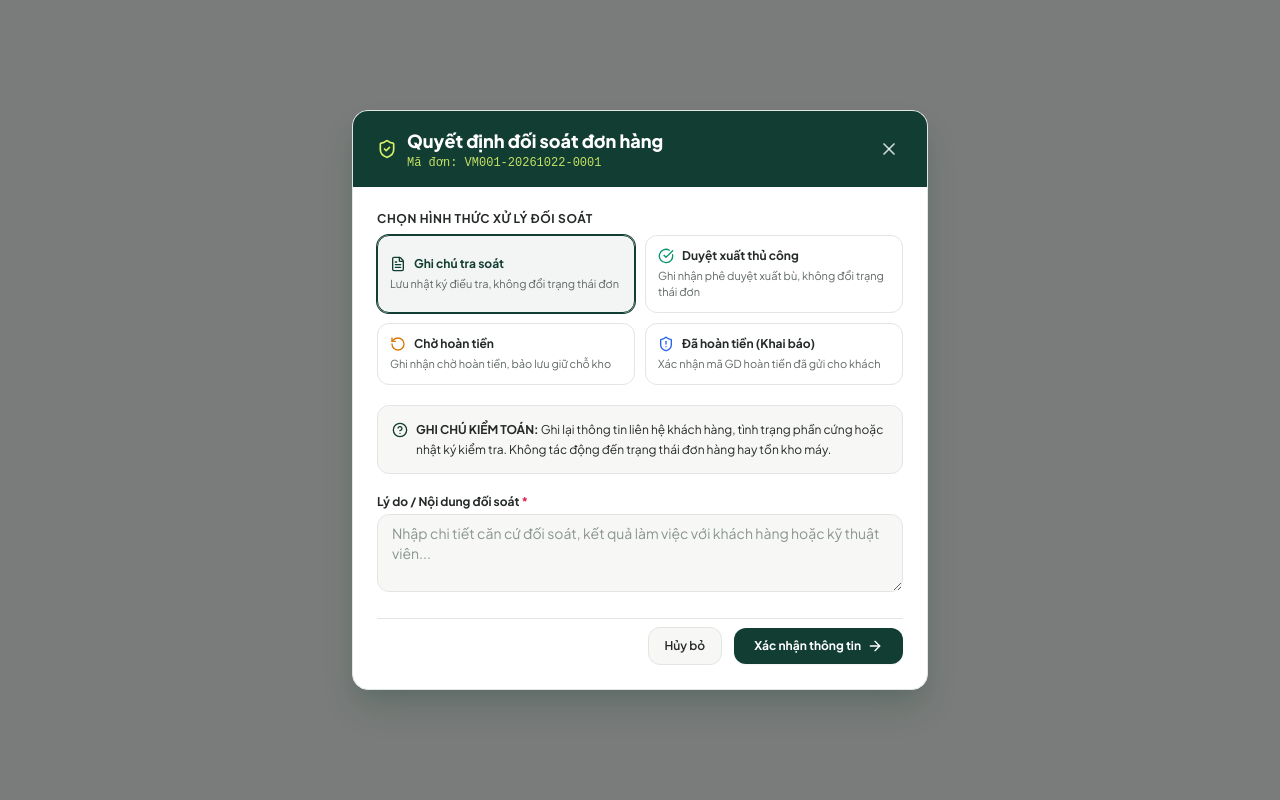
ReconciliationDecisionModal Component › validates that reason is required for any decision
Click the button "Xác nhận thông tin" at {"x": 819, "y": 646}, box [734,628,903,664]
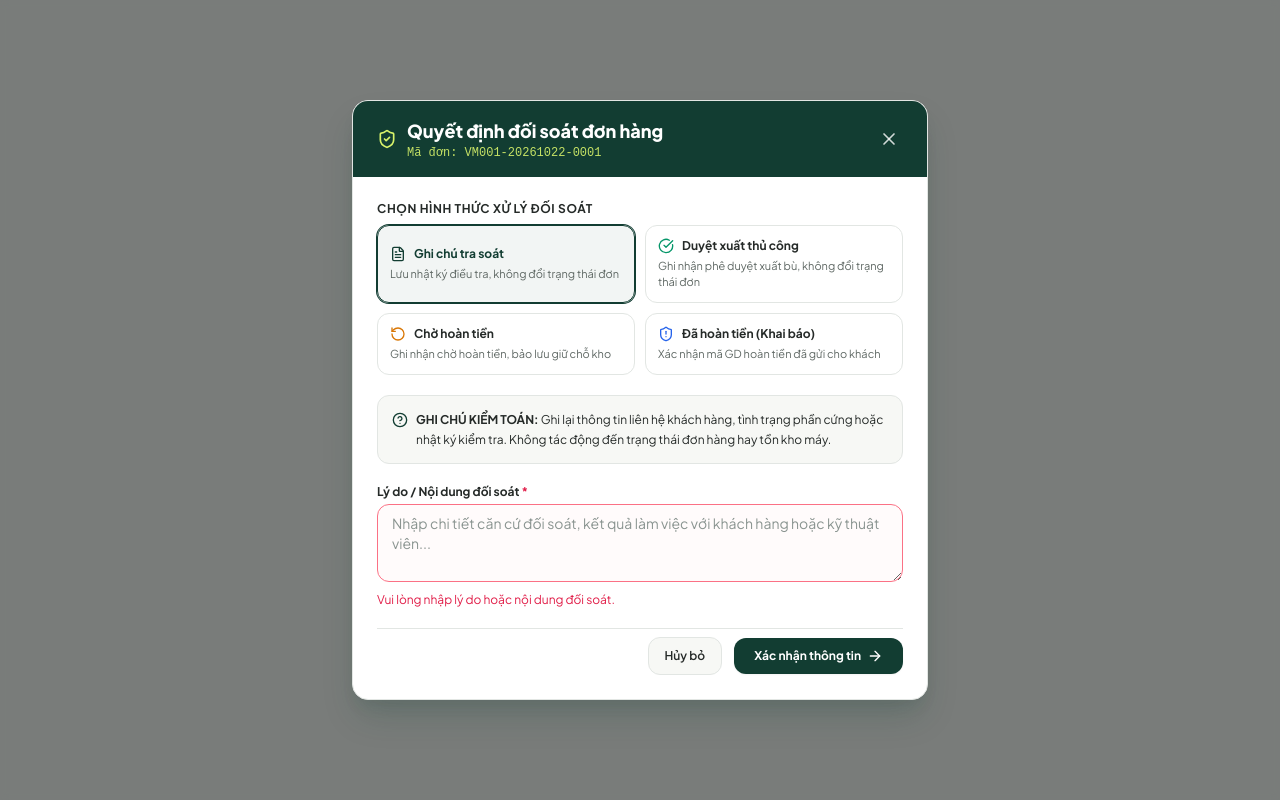
Now the text "Vui lòng nhập lý do hoặc nội dung đối soát." is shown, box [377,592,615,607]
